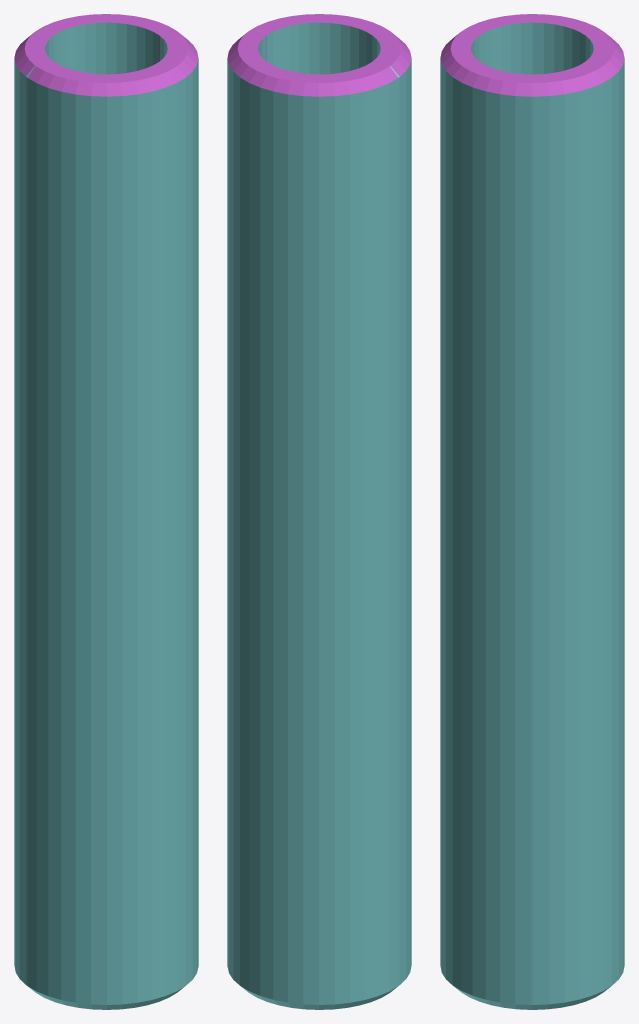
Rendered from Spacer9_50_.dae.
3 views of the same model, side by side, from view 1: azimuth 30°, elevation 25°; view 2: azimuth 150°, elevation 25°; view 3: azimuth 270°, elevation 25° (orthographic).
Visible parts, largest first — view 1: Spacer9_50; view 2: Spacer9_50; view 3: Spacer9_50.
Boxes of the visible parts, x1,y1,x2,y2 form: Spacer9_50: (14, 14, 198, 1009); Spacer9_50: (227, 14, 411, 1009); Spacer9_50: (440, 14, 624, 1009).
Size of the model in its own units: 0.009 by 0.009 by 0.05.
